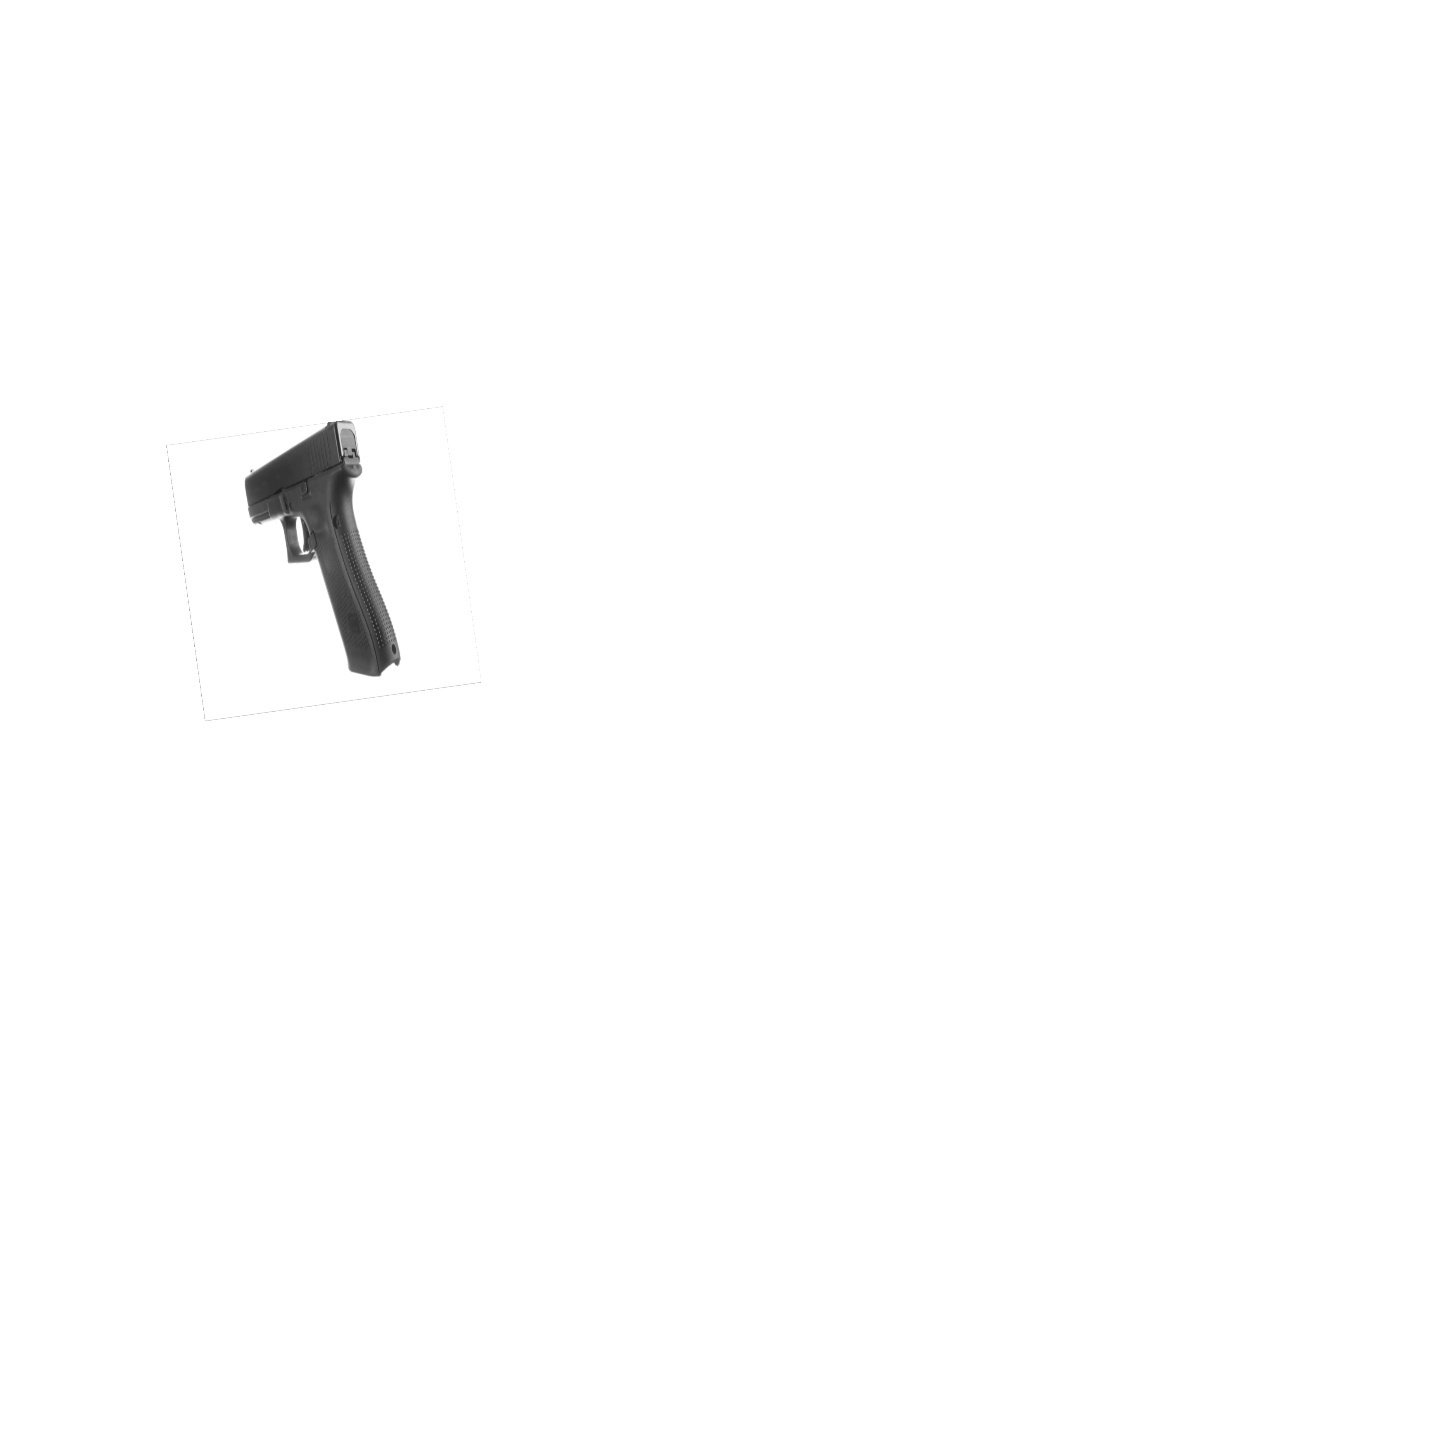gun: (244, 420, 402, 677)
